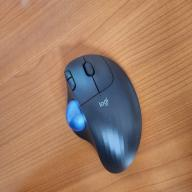mouse: (65, 54, 142, 174)
